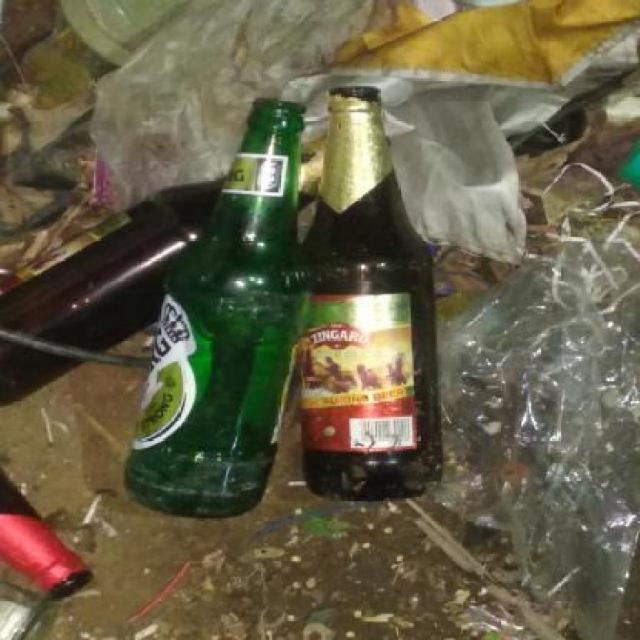garbage: (4, 6, 640, 606)
